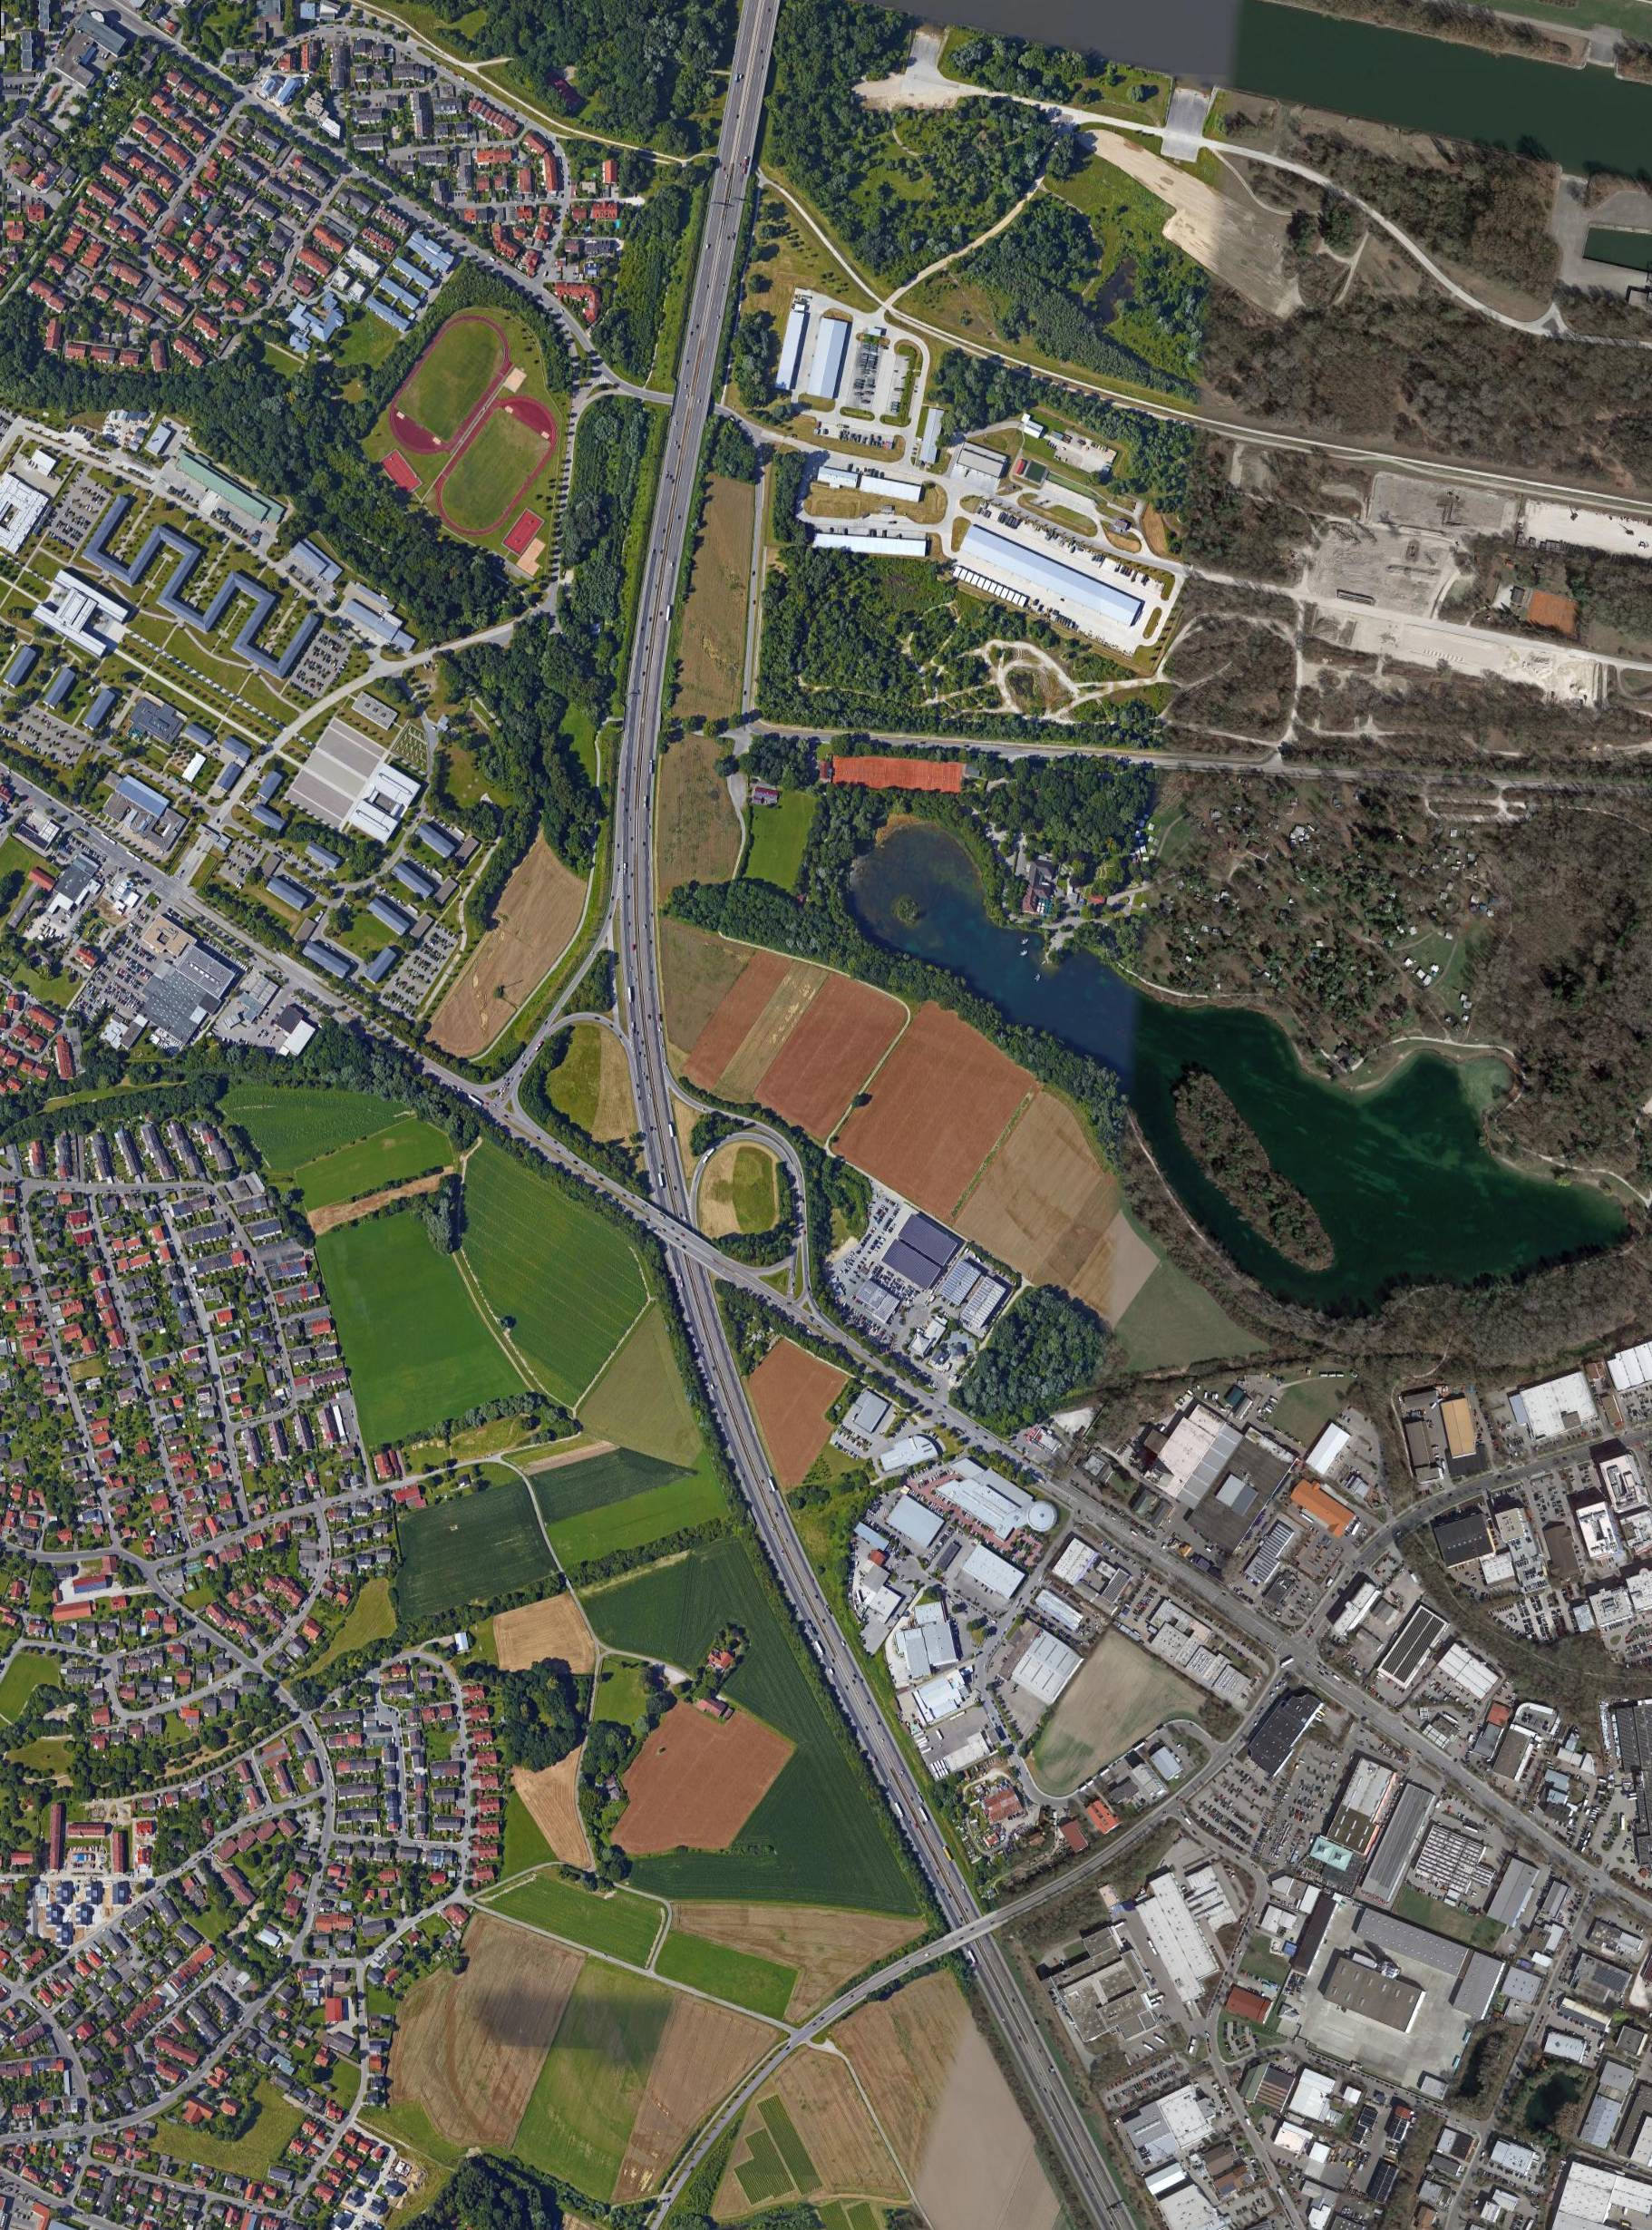ground track field: (373, 307, 526, 469), (420, 385, 569, 548)
tennis court: (503, 510, 543, 555), (382, 451, 420, 495)
